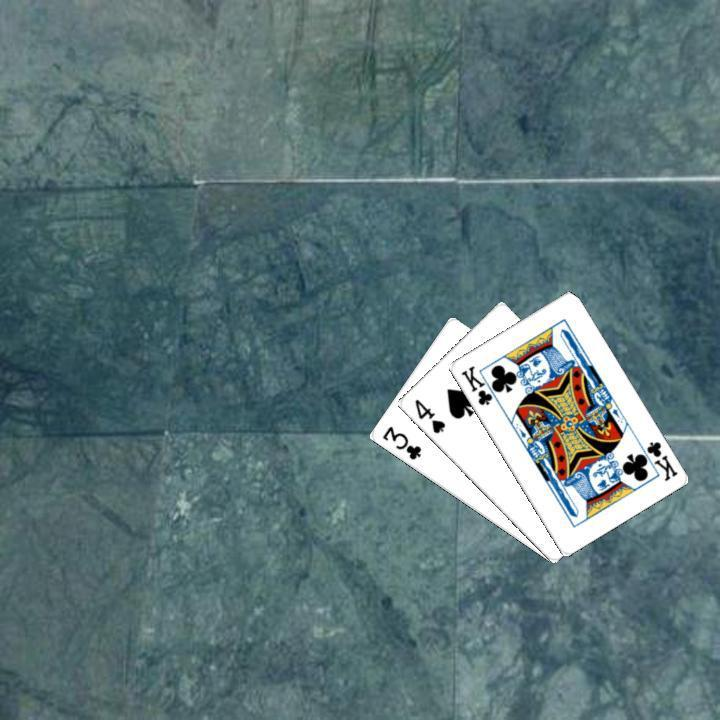3: (377, 422, 423, 462)
4: (410, 395, 447, 435)
K: (456, 361, 502, 407), (634, 437, 679, 483)
